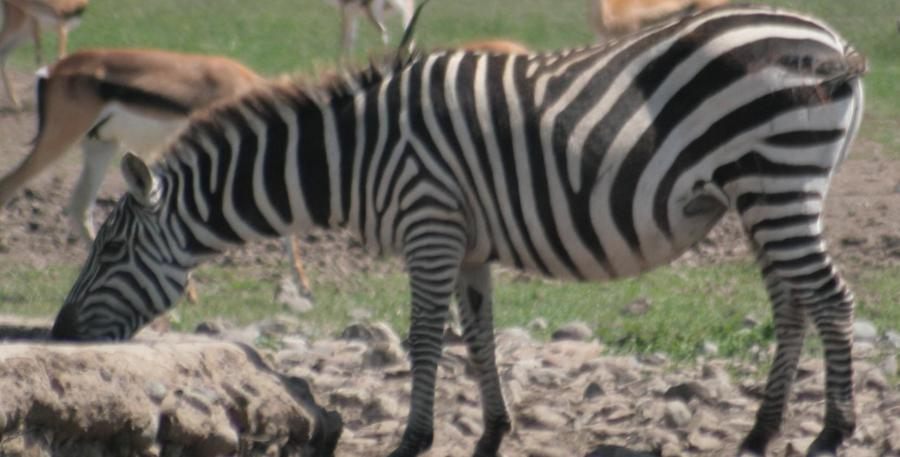zebra_plains: (317, 18, 879, 275)
